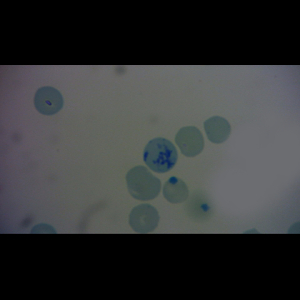aggregate reticulocyte: (142, 136, 179, 174)
erythrocyte: (125, 165, 163, 203), (127, 203, 161, 234), (33, 85, 65, 117), (174, 125, 206, 157), (162, 175, 191, 206)
punctate reticulocyte: (202, 115, 233, 145)
